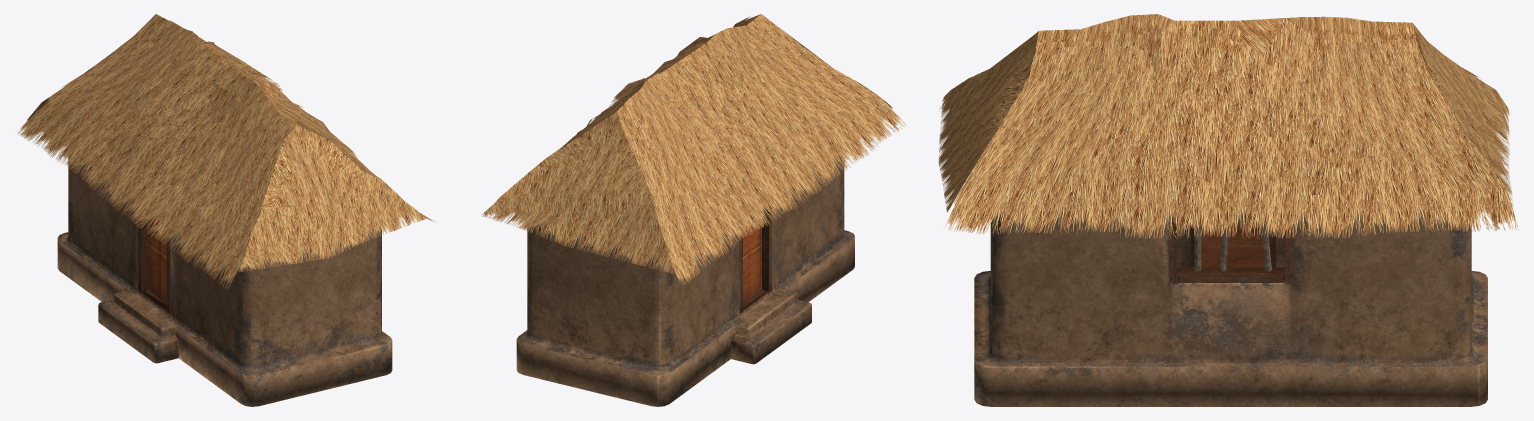
The model's file is house3.glb.
The picture shows the model from 3 angles, left to right: view 1: azimuth 30°, elevation 25°; view 2: azimuth 150°, elevation 25°; view 3: azimuth 270°, elevation 25°; orthographic projection. The views are drawn at different scales.
Parts seen in each view (by area): view 1: Plane.018_roof_0; view 2: Plane.018_roof_0; view 3: Plane.018_roof_0.
Part boxes in pixels (x1,y1,x2,y2): Plane.018_roof_0: (17,14,435,406); Plane.018_roof_0: (482,14,905,406); Plane.018_roof_0: (938,14,1518,406).
Size of the model in its own units: 3.21 by 3.57 by 5.46.
2 materials, 2 textured.
